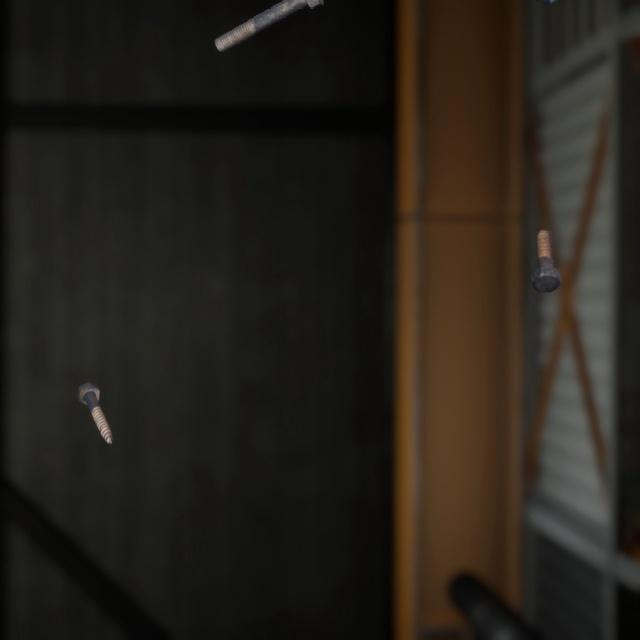bolt: (209, 0, 324, 48), (73, 358, 117, 428), (526, 209, 565, 280)
